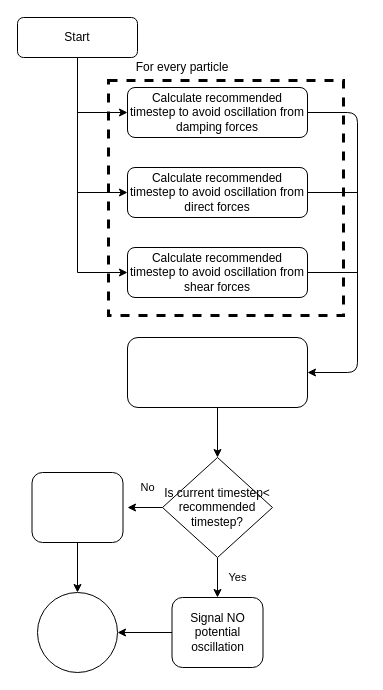
Image size: 383x690. Some labels were removed from this diagram. Each missing label, with the centre of its shape:
Finish: (77,632)
Recommended timestep = minimum calculated recommended timestep: (217,372)
Signal potential oscillation: (77,507)
